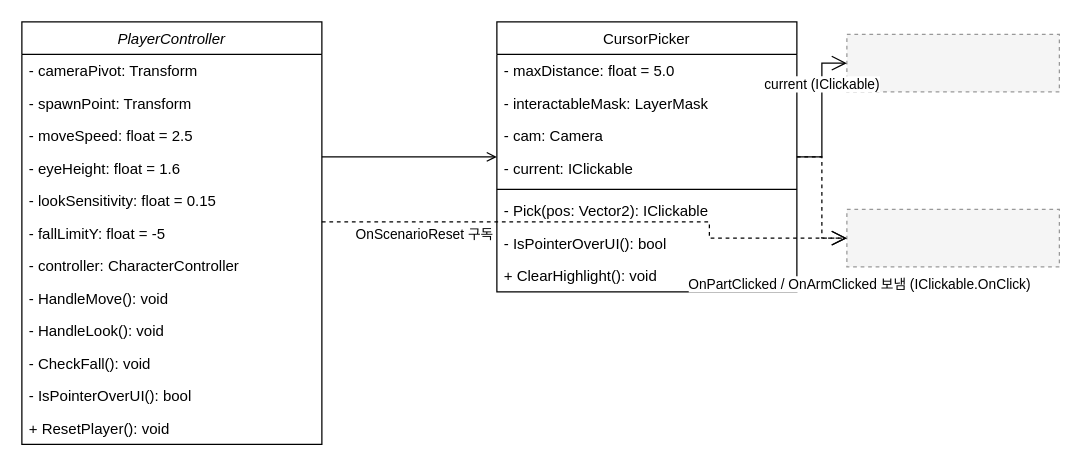
This 1081x470 diagram has some shape labels left out. Each missing label, with the centre of its shape:
"HomeEvents (System 페이지)" belongs at (x=952, y=237).
"OptionPart (OptionItem 페이지)" belongs at (x=952, y=62).
